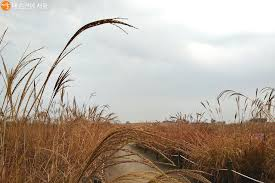field: (3, 114, 275, 181)
sky: (5, 10, 273, 120)
